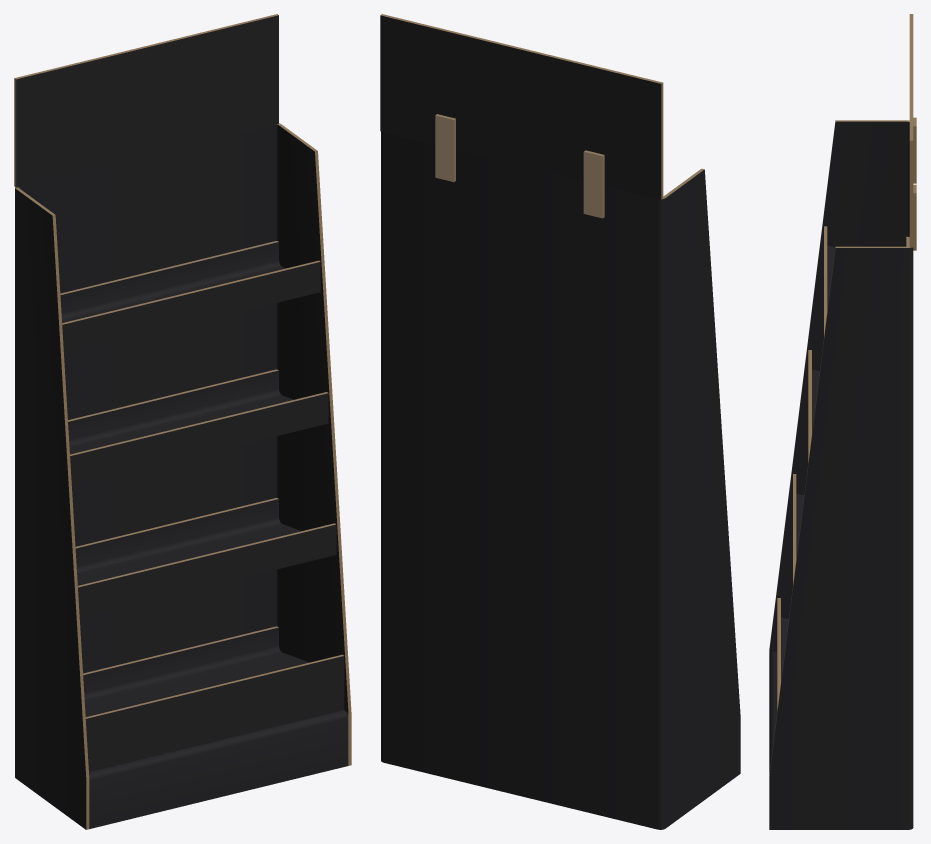
File: film-floor-display.glb
3 views of the same model, side by side, from view 1: azimuth 30°, elevation 25°; view 2: azimuth 150°, elevation 25°; view 3: azimuth 270°, elevation 25° (orthographic). The views are drawn at different scales.
Parts seen in each view (by area): view 1: Body_back_and_sides, Header_card, Kick_base, Tray_0_apron, Tray_0_deck, Tray_1_apron, Tray_2_apron, Tray_3_apron, Tray_1_deck, Tray_2_deck, Tray_3_deck; view 2: Body_back_and_sides, Header_card, Header_lock_tab, Header_lock_tab.001; view 3: Body_back_and_sides, Header_card, Kick_base, Tray_0_apron, Tray_2_apron, Tray_1_apron, Tray_3_apron, Tray_3_deck, Tray_1_deck.
Part boxes in pixels (left/top/right/bottom): Body_back_and_sides: left=15, top=123, right=351, bottom=829; Header_card: left=14, top=14, right=278, bottom=187; Kick_base: left=89, top=710, right=348, bottom=828; Tray_0_apron: left=85, top=654, right=344, bottom=772; Tray_0_deck: left=83, top=626, right=309, bottom=716; Tray_1_apron: left=78, top=523, right=336, bottom=617; Tray_2_apron: left=70, top=392, right=328, bottom=485; Tray_3_apron: left=62, top=260, right=320, bottom=354; Tray_1_deck: left=75, top=498, right=301, bottom=585; Tray_2_deck: left=68, top=369, right=293, bottom=454; Tray_3_deck: left=60, top=241, right=285, bottom=322; Body_back_and_sides: left=381, top=131, right=740, bottom=829; Header_card: left=380, top=14, right=663, bottom=199; Header_lock_tab: left=583, top=150, right=604, bottom=218; Header_lock_tab.001: left=435, top=114, right=455, bottom=181; Body_back_and_sides: left=769, top=120, right=913, bottom=829; Header_card: left=909, top=14, right=913, bottom=247; Kick_base: left=769, top=651, right=777, bottom=774; Tray_0_apron: left=777, top=598, right=780, bottom=710; Tray_2_apron: left=808, top=350, right=811, bottom=462; Tray_1_apron: left=793, top=474, right=796, bottom=584; Tray_3_apron: left=824, top=226, right=827, bottom=336; Tray_3_deck: left=827, top=236, right=909, bottom=310; Tray_1_deck: left=796, top=493, right=804, bottom=558.
Bounding box in the file's own units: 2.1 × 5.28 × 1.02.
